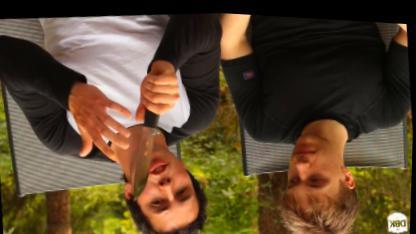knife: (122, 66, 186, 206)
